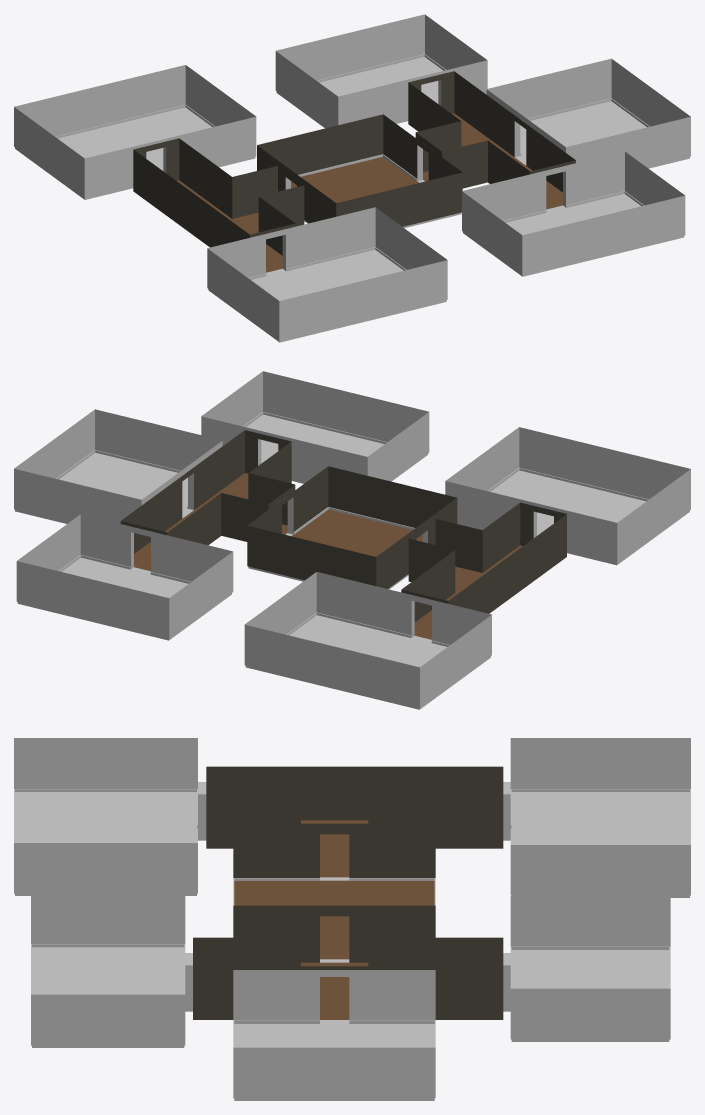
Rendered from level.obj.
3 views of the same model, one above another, from view 1: azimuth 30°, elevation 25°; view 2: azimuth 150°, elevation 25°; view 3: azimuth 270°, elevation 25° (orthographic). The views are drawn at different scales.
Parts seen in each view (by area): view 1: Level; view 2: Level; view 3: Level.
Boxes of the visible parts, <box> form: Level: <box>14,14,690,342</box>; Level: <box>14,371,690,709</box>; Level: <box>14,738,690,1100</box>.
Bounding box in the file's own units: 36.18 × 2.92 × 33.44.
